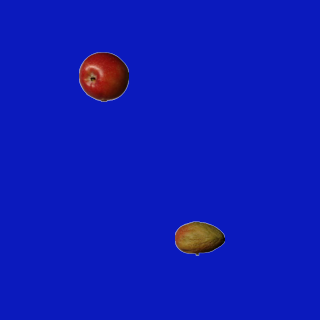Apple Braeburn: (78, 51, 128, 101)
Papaya: (174, 213, 224, 263)
